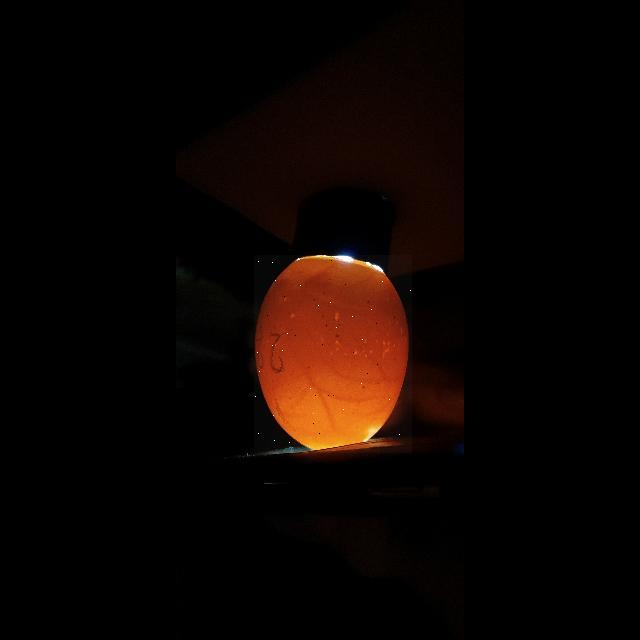Fertile: (254, 255, 412, 453)
